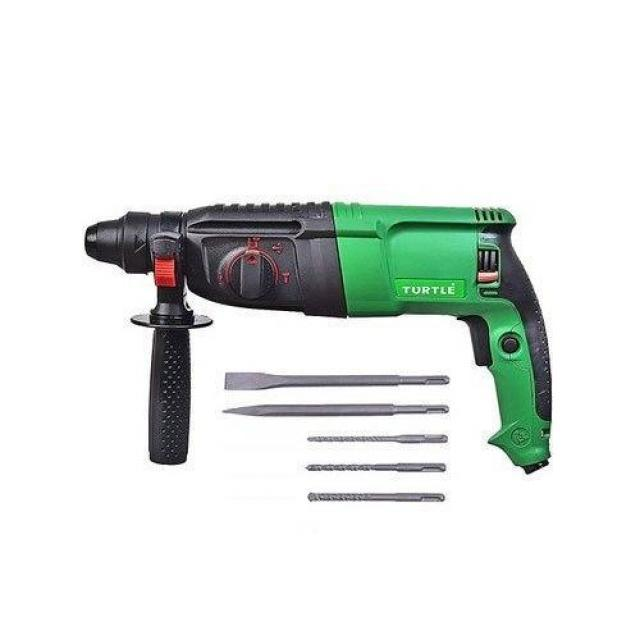drill: (85, 200, 552, 475)
